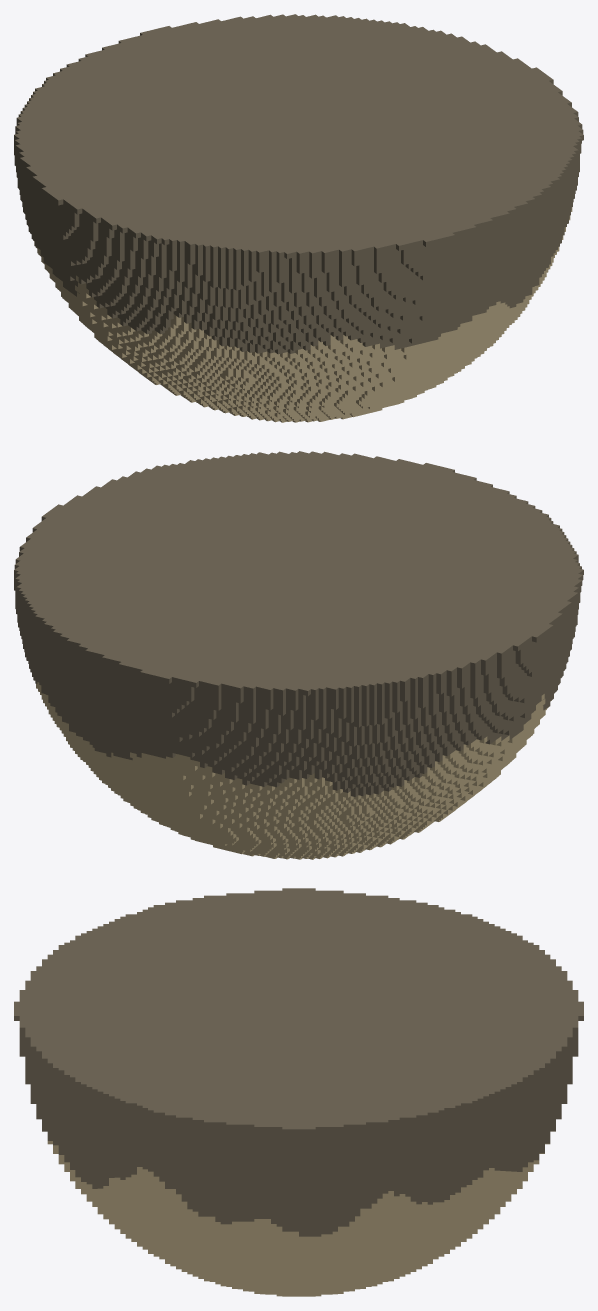
The model's file is StageUnder.obj.
3 renders of one model, top to bottom at view 1: azimuth 30°, elevation 25°; view 2: azimuth 150°, elevation 25°; view 3: azimuth 270°, elevation 25°, orthographic.
Bounding box in the file's own units: 10.2 × 5.1 × 10.2.
Materials: 1 (1 with a texture image).
